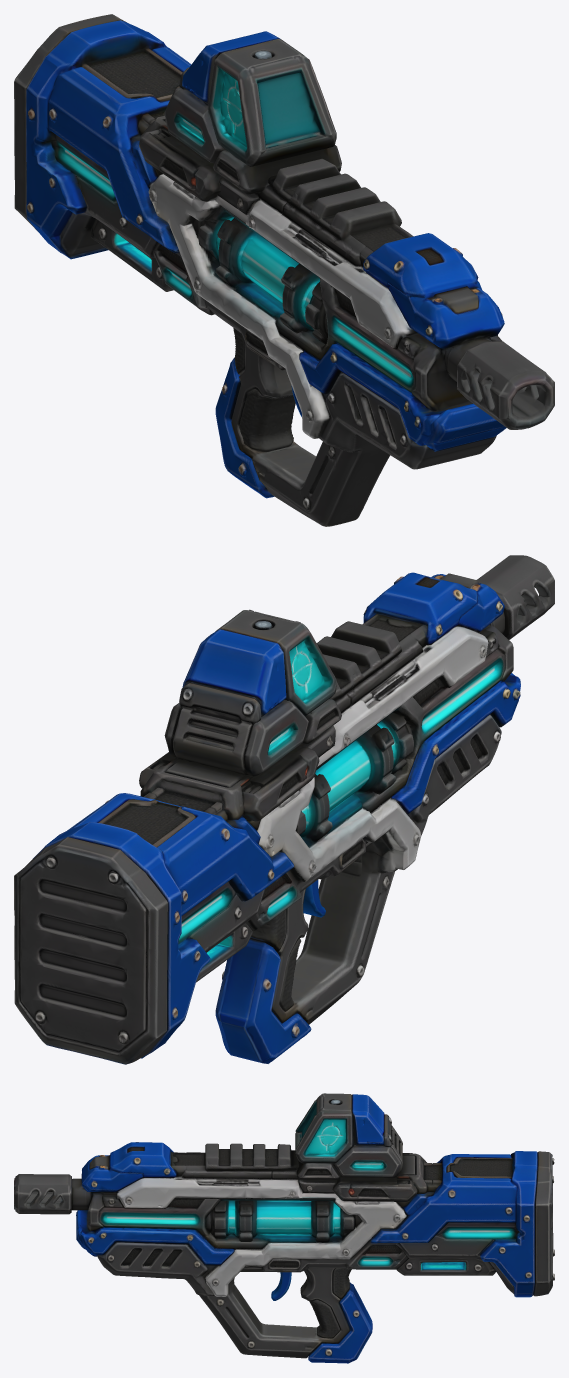
Rendered from fp_gun.glb.
3 views of the same model, one above another, from view 1: azimuth 30°, elevation 25°; view 2: azimuth 150°, elevation 25°; view 3: azimuth 270°, elevation 25° (orthographic). The views are drawn at different scales.
Visible parts, largest first — view 1: tripo_node_d58e562e-71ab-4321-935d-2d8b3b7a1c42; view 2: tripo_node_d58e562e-71ab-4321-935d-2d8b3b7a1c42; view 3: tripo_node_d58e562e-71ab-4321-935d-2d8b3b7a1c42.
Part boxes in pixels (x1,y1,x2,y2): tripo_node_d58e562e-71ab-4321-935d-2d8b3b7a1c42: [14, 14, 554, 526]; tripo_node_d58e562e-71ab-4321-935d-2d8b3b7a1c42: [14, 555, 554, 1064]; tripo_node_d58e562e-71ab-4321-935d-2d8b3b7a1c42: [14, 1093, 554, 1363].
Bounding box in the file's own units: 0.1872 × 0.5165 × 0.9839.
1 material, 1 textured.
